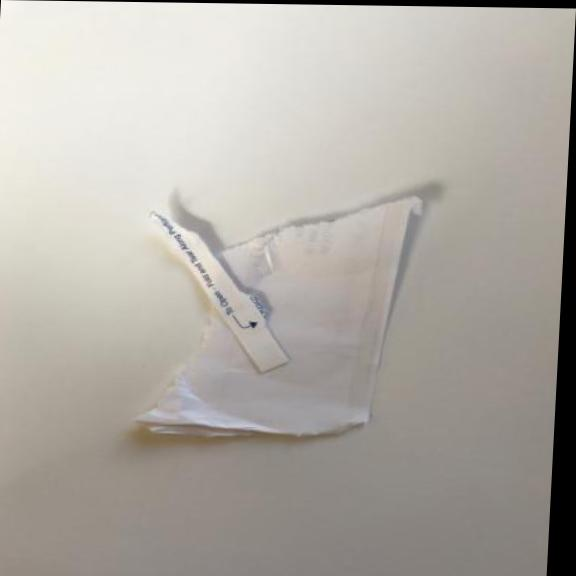Kertas: (116, 180, 446, 451)
